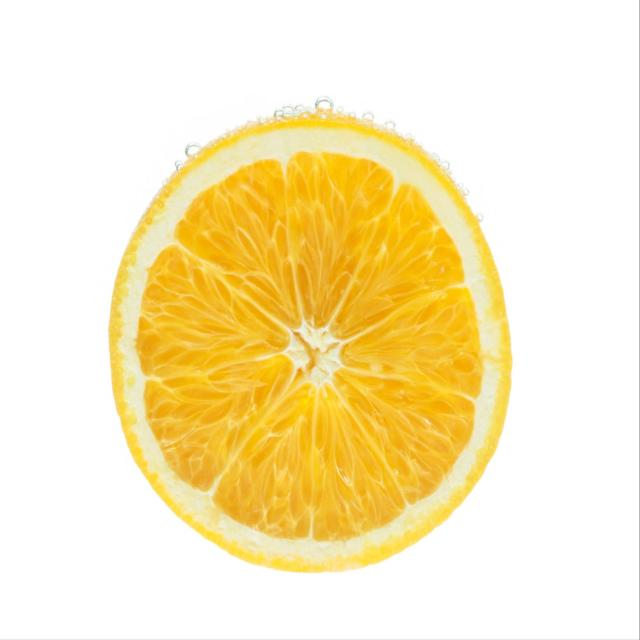lemon: (100, 102, 518, 582)
